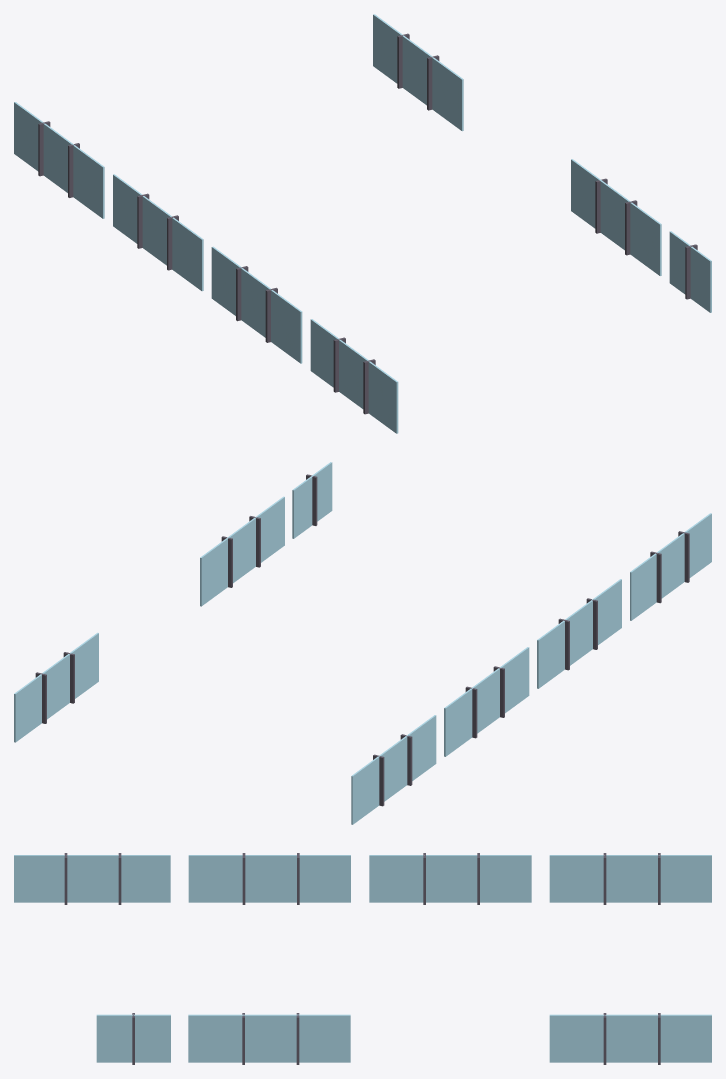
File: all_windows.obj
3 renders of one model, top to bottom at view 1: azimuth 30°, elevation 25°; view 2: azimuth 150°, elevation 25°; view 3: azimuth 270°, elevation 25°, orthographic. The views are drawn at different scales.
Visible parts, largest first — view 1: bolleano.012, bolleano.003, bolleano.001, bolleano.010, bolleano.005, bolleano.014, bolleano.008; view 2: bolleano.010, bolleano.005, bolleano.001, bolleano.012, bolleano.003, bolleano.014, bolleano.008; view 3: bolleano.001, bolleano.003, bolleano.005, bolleano.012, bolleano.010, bolleano.014, bolleano.008.
Boxes of the visible parts, box(x1,y1,x2,y2) form: bolleano.012: box(211, 246, 302, 363); bolleano.003: box(373, 14, 463, 131); bolleano.001: box(571, 159, 661, 275); bolleano.010: box(113, 174, 203, 291); bolleano.005: box(14, 102, 104, 218); bolleano.014: box(310, 319, 398, 433); bolleano.008: box(669, 231, 711, 312); bolleano.010: box(444, 647, 529, 756); bolleano.005: box(351, 715, 436, 824); bolleano.001: box(200, 496, 284, 606); bolleano.012: box(537, 579, 621, 688); bolleano.003: box(14, 632, 98, 742); bolleano.014: box(630, 513, 711, 620); bolleano.008: box(292, 462, 332, 538); bolleano.001: box(188, 1013, 350, 1064); bolleano.003: box(549, 1013, 711, 1064); bolleano.005: box(549, 853, 711, 904); bolleano.012: box(188, 853, 350, 904); bolleano.010: box(369, 853, 531, 904); bolleano.014: box(14, 853, 170, 904); bolleano.008: box(96, 1013, 170, 1064).
Size of the model in its own units: 34.52 by 4.6 by 61.83.
2 materials, 2 textured.
